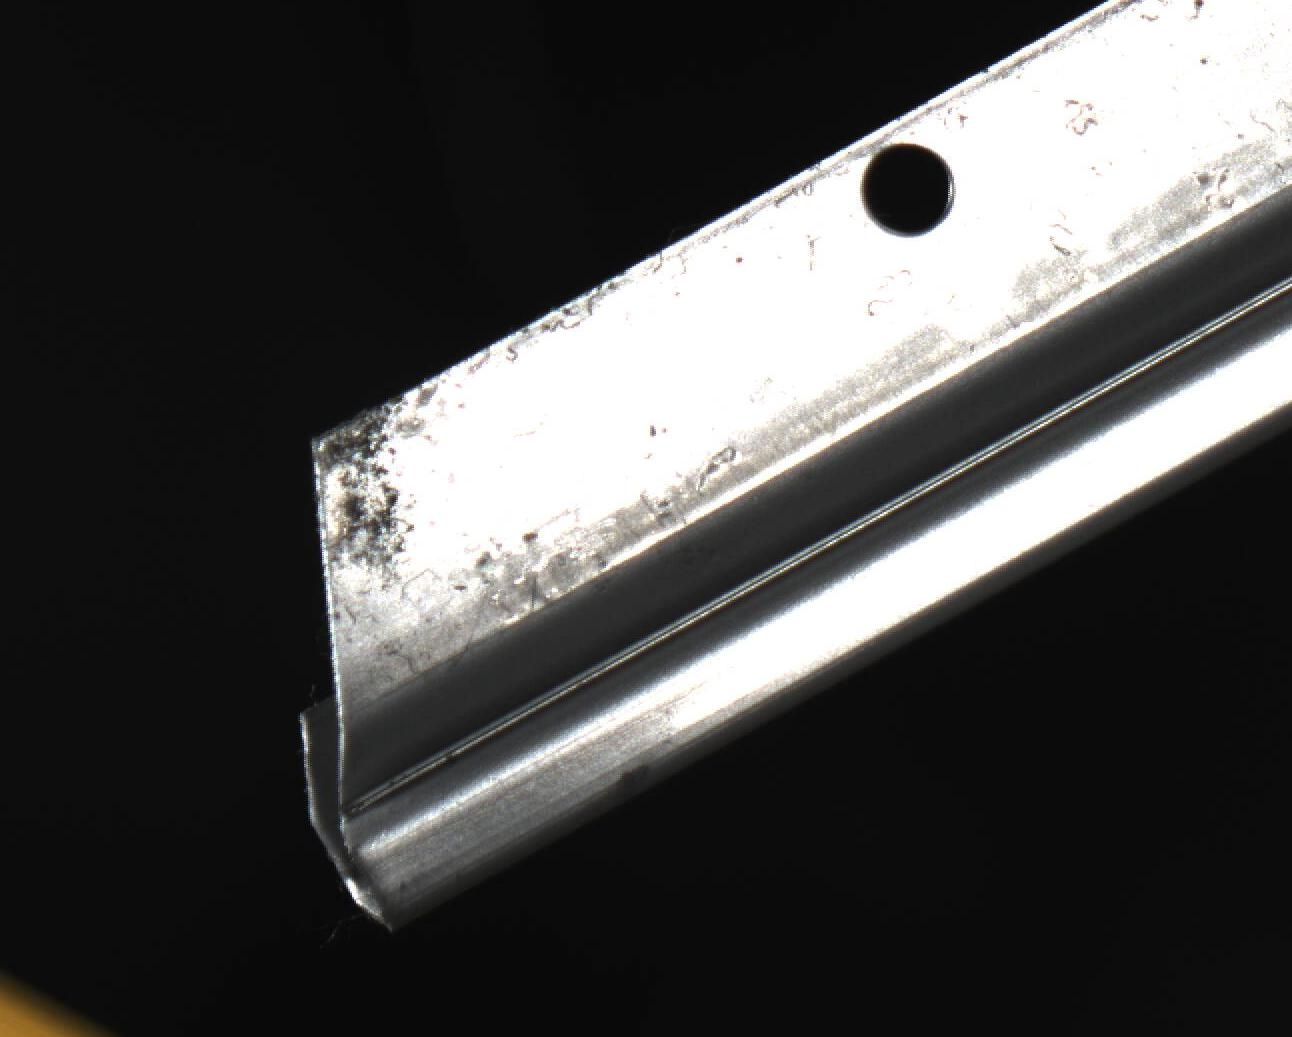cut: (221, 361, 683, 936)
holes: (859, 142, 958, 240)
